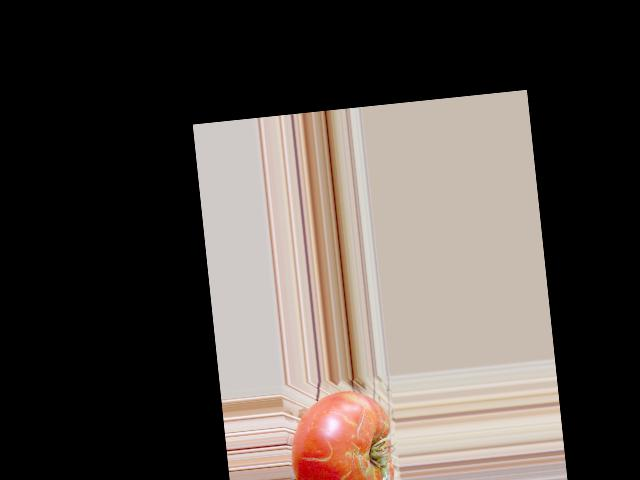tomato: (286, 387, 398, 480)
